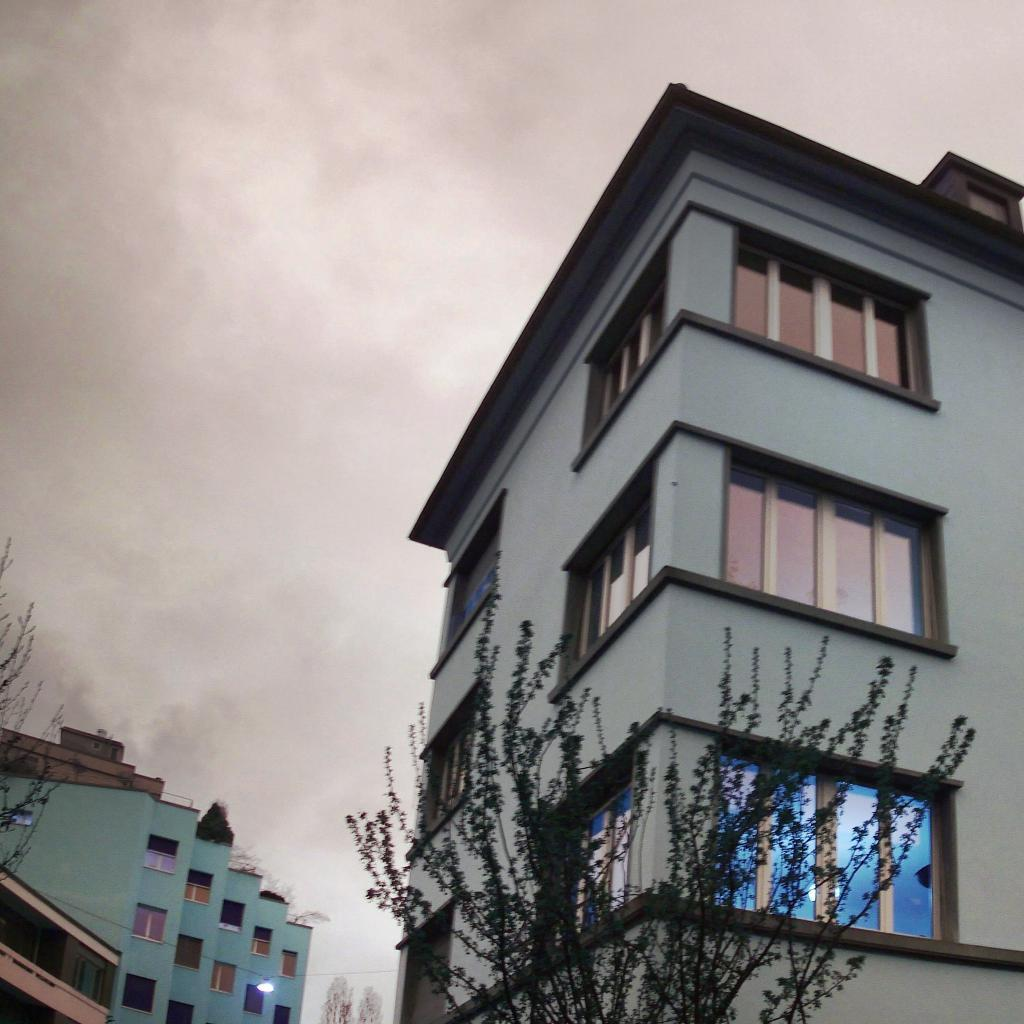facade: (392, 142, 1024, 1024), (0, 773, 314, 1024)
traffic-infrastructure: (36, 887, 398, 994)
vegetation: (344, 547, 978, 1024), (0, 598, 86, 884), (196, 799, 332, 930), (319, 972, 386, 1024)
window: (714, 736, 947, 940), (726, 451, 942, 643), (733, 227, 927, 396), (544, 756, 632, 952), (569, 475, 650, 666), (591, 262, 664, 432), (445, 515, 498, 649), (401, 910, 450, 1024), (426, 708, 469, 827), (968, 185, 1011, 226), (143, 833, 181, 876), (132, 902, 168, 945), (121, 972, 157, 1015), (75, 955, 106, 1003), (183, 866, 214, 906), (174, 934, 204, 972), (218, 897, 247, 934), (210, 960, 238, 995), (250, 924, 273, 958), (166, 999, 195, 1024), (244, 984, 264, 1017), (281, 949, 298, 981), (273, 1003, 292, 1024)
